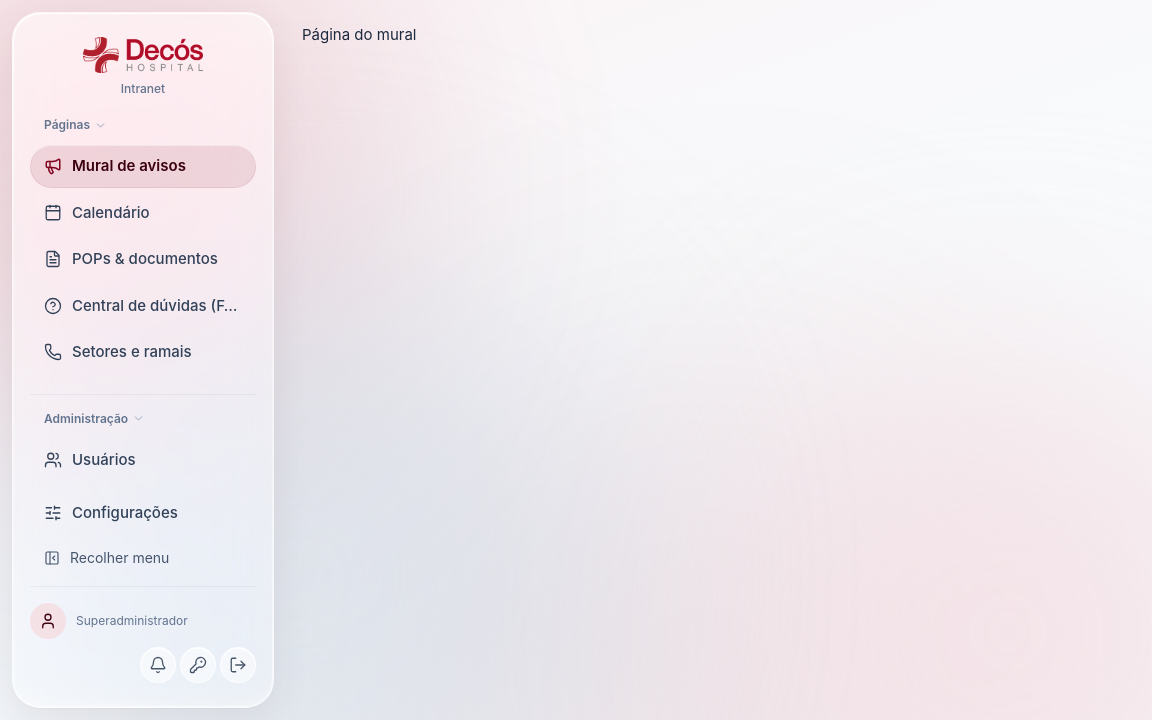
GER-19 — seções colapsáveis do menu lateral › com animações reduzidas, colapsar some com os itens na hora
Expected: the link "Usuários" is shown, [44, 450, 136, 469]
Click the button "Administração": (147, 418) [44, 410, 250, 426]
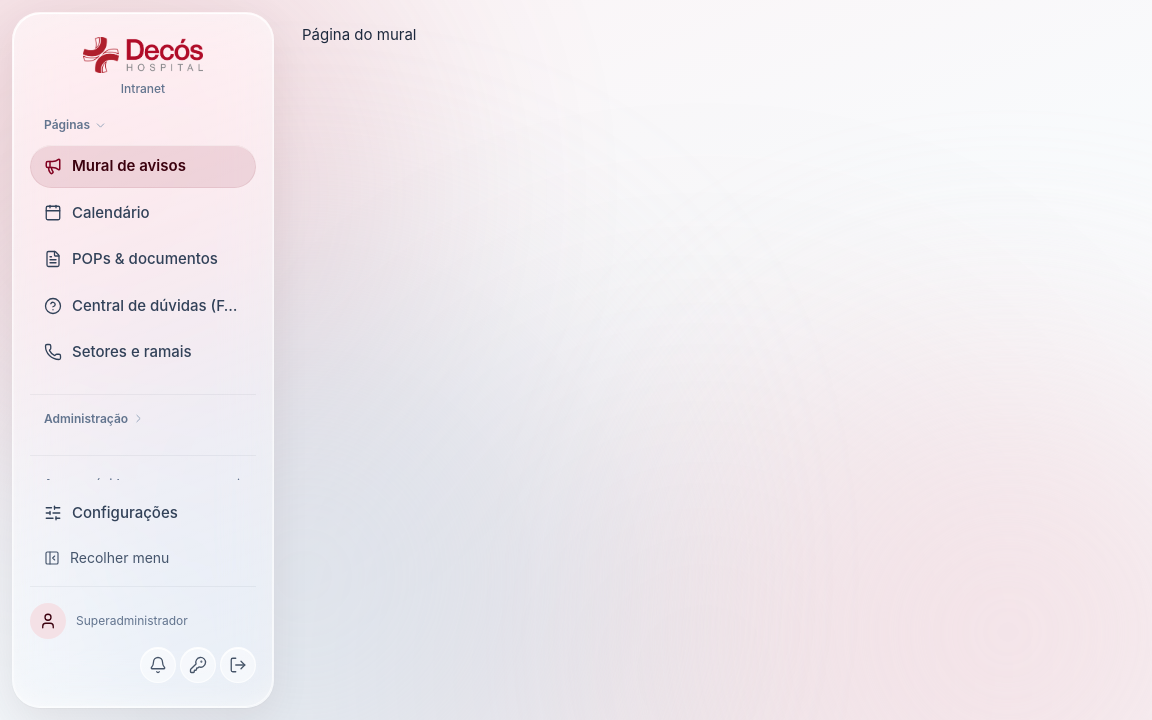
Expected: the link "Usuários" is gone
